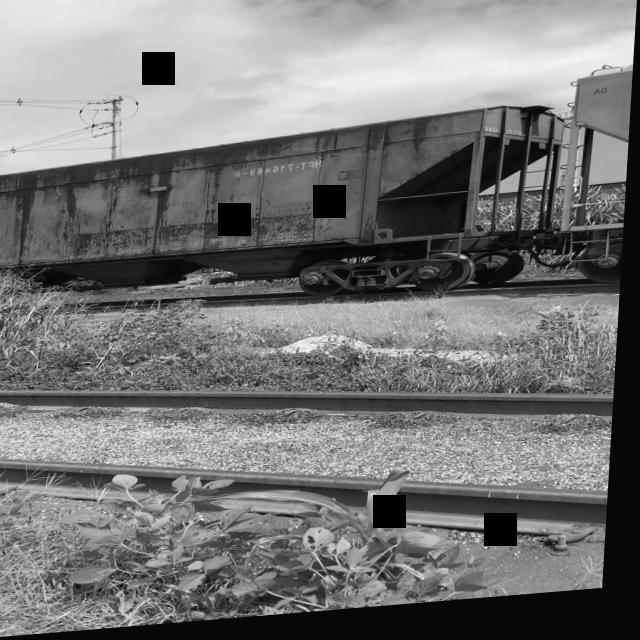hopper: (0, 99, 560, 330), (548, 56, 635, 316)
